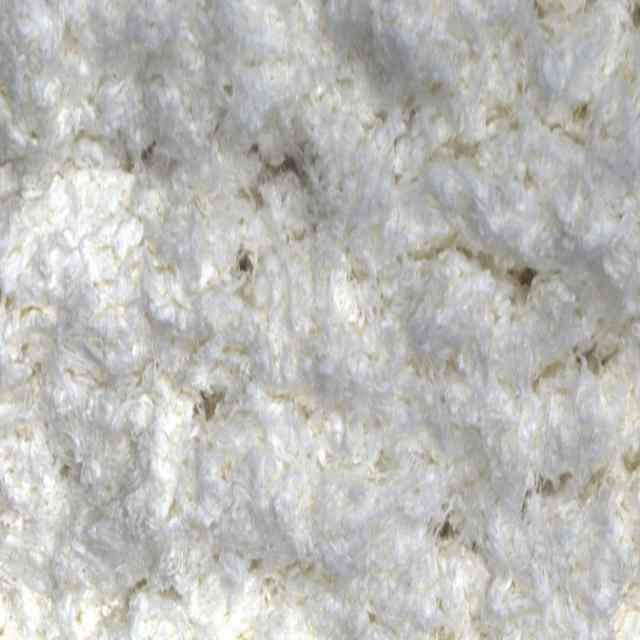dust: (236, 250, 269, 299), (518, 262, 542, 317)
